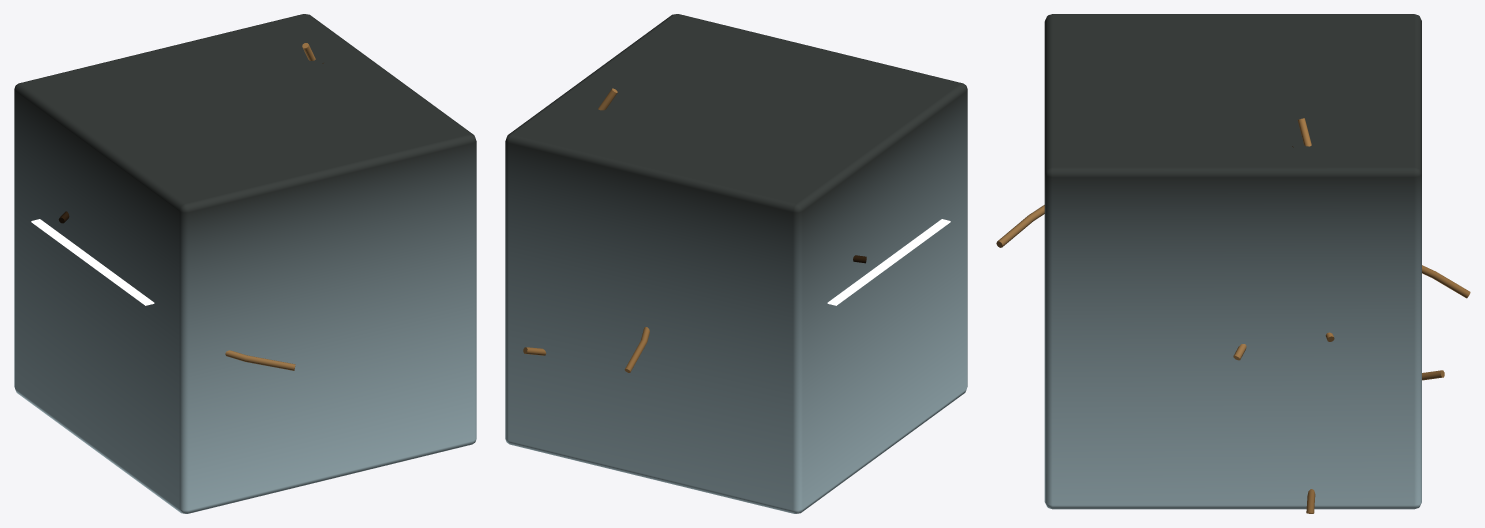
File: macro.glb
3 views of the same model, side by side, from view 1: azimuth 30°, elevation 25°; view 2: azimuth 150°, elevation 25°; view 3: azimuth 270°, elevation 25° (orthographic). The views are drawn at different scales.
Parts seen in each view (by area): view 1: anim-shell, anim-crack-0, macro.bark.0; view 2: anim-shell, anim-crack-0, macro.bark.2; view 3: anim-shell, macro.bark.2, macro.bark.0.
Boxes of the visible parts, bbox=[...] form: anim-shell: bbox=[14, 14, 476, 513]; anim-crack-0: bbox=[31, 219, 154, 305]; macro.bark.0: bbox=[225, 350, 295, 370]; anim-shell: bbox=[505, 14, 967, 513]; anim-crack-0: bbox=[827, 219, 950, 305]; macro.bark.2: bbox=[523, 88, 866, 372]; anim-shell: bbox=[1044, 14, 1421, 509]; macro.bark.2: bbox=[1292, 118, 1470, 513]; macro.bark.0: bbox=[996, 205, 1246, 360].
Size of the model in its own units: 2.57 by 2.63 by 3.02.
